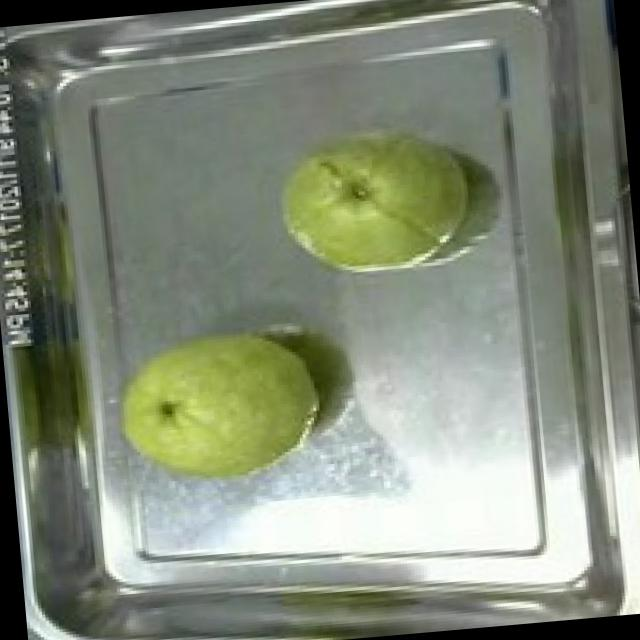Fruit: (96, 307, 334, 499), (258, 106, 480, 296)
